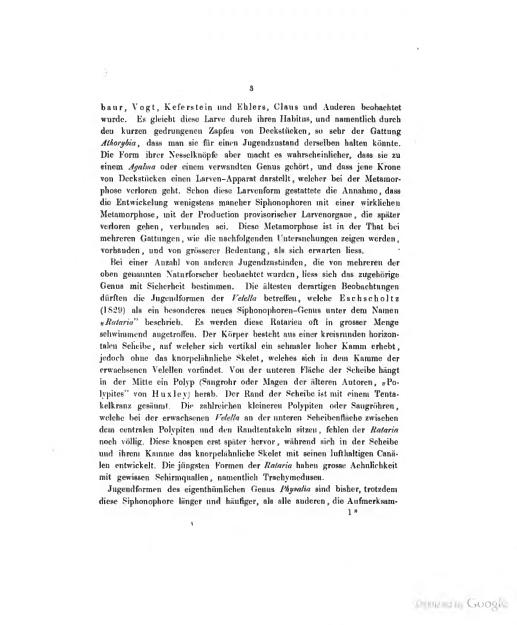MainZone: (91, 96, 410, 509)
NoiseZone: (405, 582, 517, 625)
NumberingZone_page: (241, 79, 265, 97)
QuireMarksZone: (340, 505, 364, 521)
